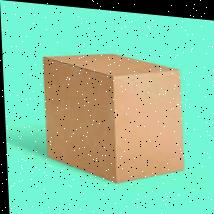cube: (36, 46, 182, 184)
